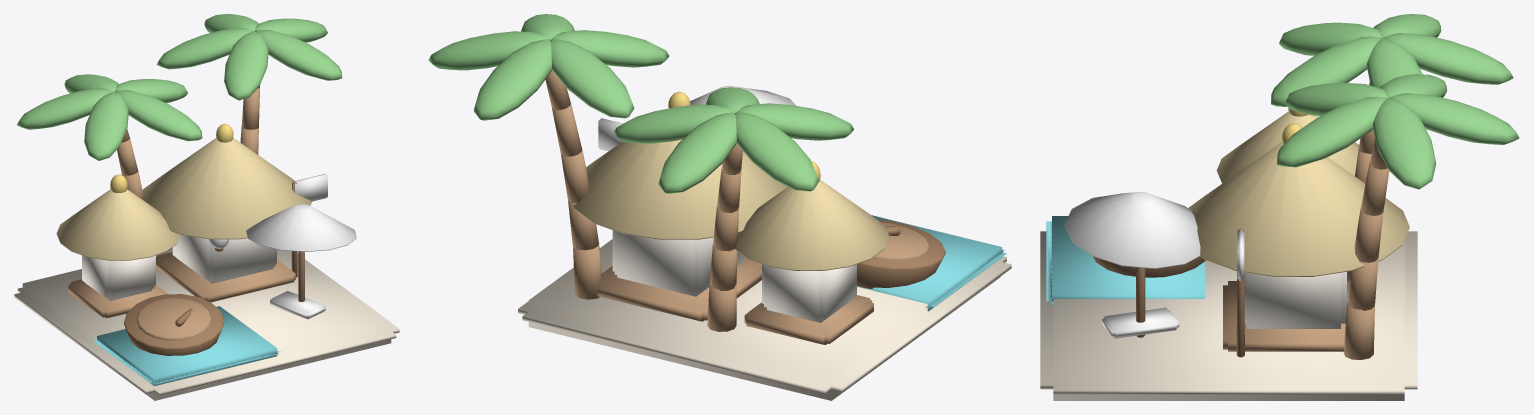
Rendered from resort_vn.glb.
The picture shows the model from 3 angles, left to right: view 1: azimuth 30°, elevation 25°; view 2: azimuth 150°, elevation 25°; view 3: azimuth 270°, elevation 25°; orthographic projection. The views are drawn at different scales.
Parts seen in each view (by area): view 1: resort_vn; view 2: resort_vn; view 3: resort_vn.
Boxes of the visible parts, x1,y1,x2,y2 form: resort_vn: (14,14,399,400); resort_vn: (428,14,1011,400); resort_vn: (1040,14,1519,400).
Bounding box in the file's own units: 0.8265 × 0.5587 × 0.8129.
